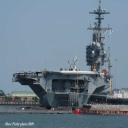Portanaves: (13, 1, 115, 111)
